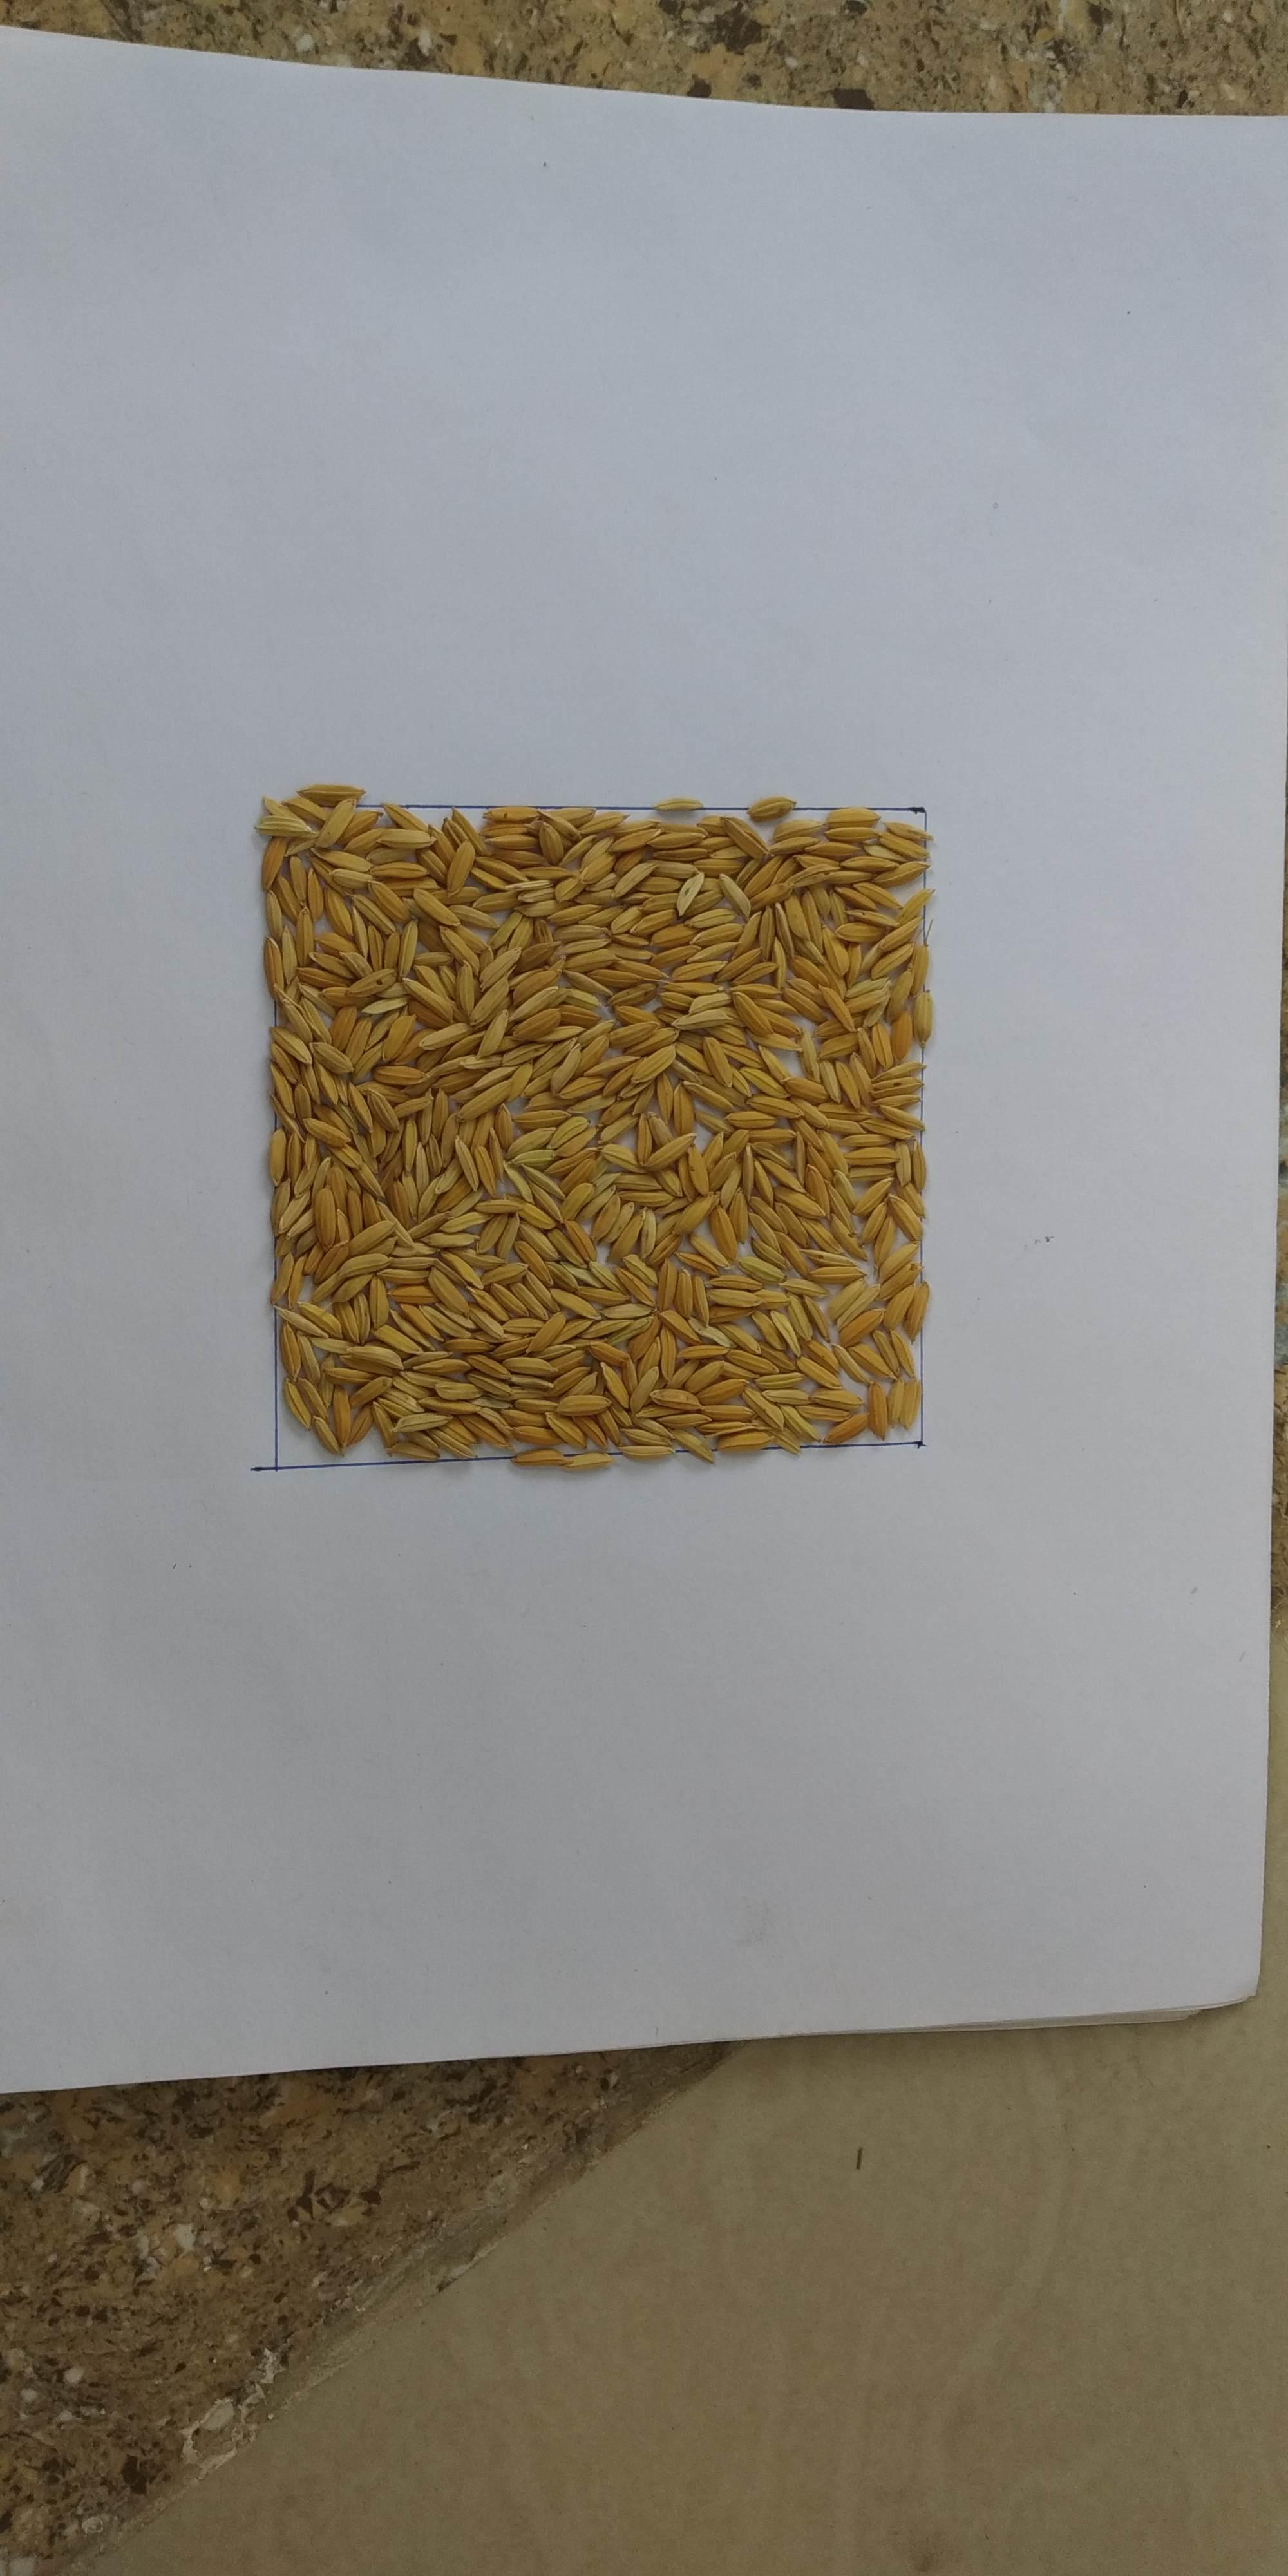pure: (230, 749, 941, 1475)
